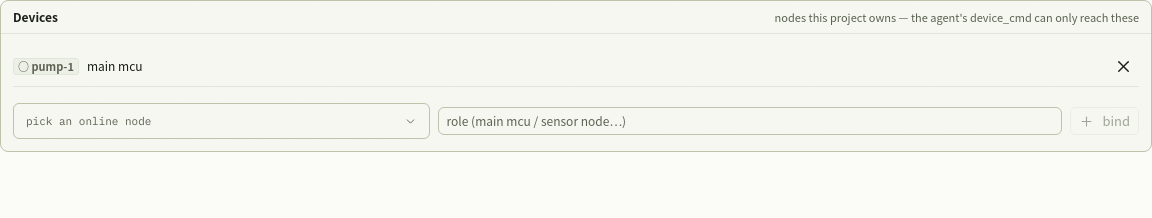
Scenario: Bindings › prefers picking a live node over spelling its name
What coordinates should you click on to do the following:
click the button with aria-label "node to bind"
I would click on:
 (89, 121)
Its box is [13,103,430,139].
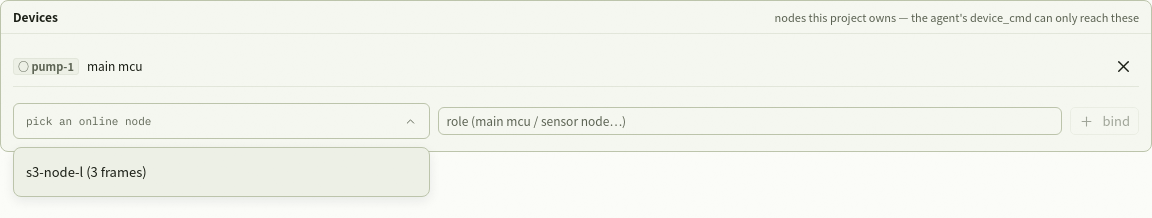
Now the option "s3-node-l (3 frames)" is shown, box [26,162,147,181]
